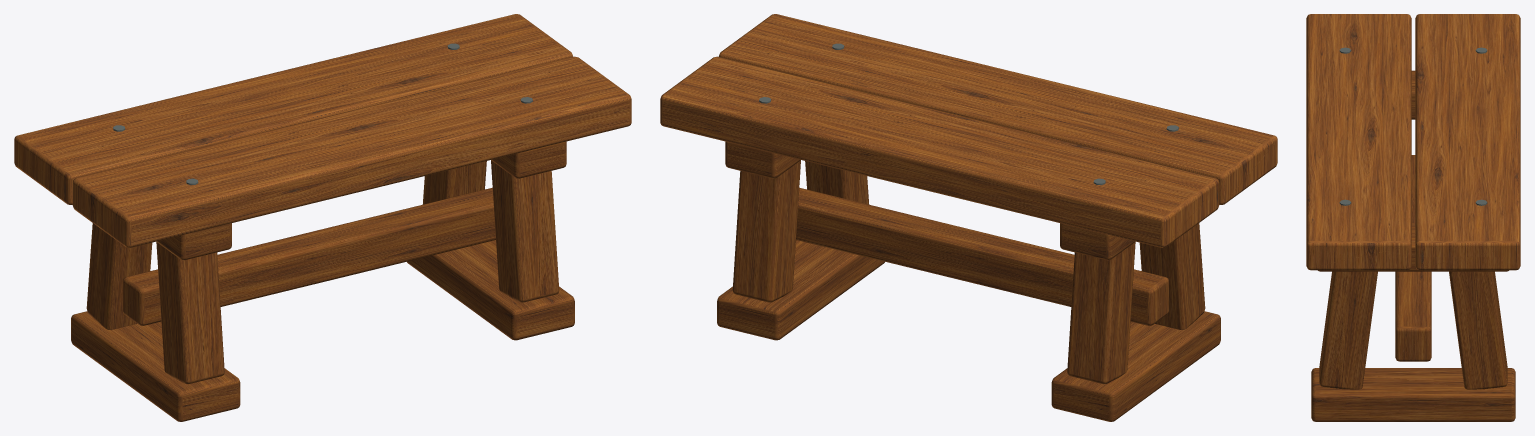
File: Cruce_Bench_Wood.glb
The picture shows the model from 3 angles, left to right: view 1: azimuth 30°, elevation 25°; view 2: azimuth 150°, elevation 25°; view 3: azimuth 270°, elevation 25°; orthographic projection. The views are drawn at different scales.
Parts seen in each view (by area): view 1: Cruce_Bench_Wood; view 2: Cruce_Bench_Wood; view 3: Cruce_Bench_Wood.
Boxes of the visible parts, x1,y1,x2,y2 form: Cruce_Bench_Wood: [14, 14, 631, 421]; Cruce_Bench_Wood: [660, 14, 1277, 421]; Cruce_Bench_Wood: [1306, 14, 1520, 421].
Bounding box in the file's own units: 1.12 × 0.47 × 0.44.
3 materials, 2 textured.
